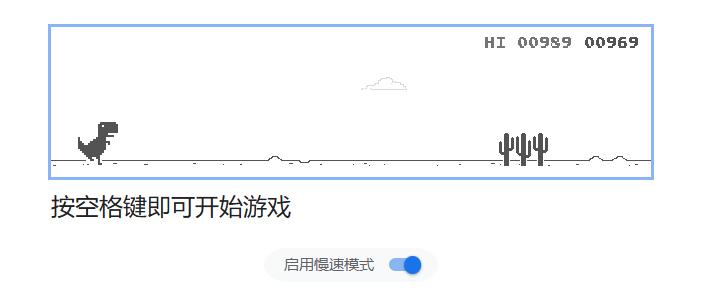cactus: (496, 132, 549, 168)
dino: (75, 120, 119, 166)
